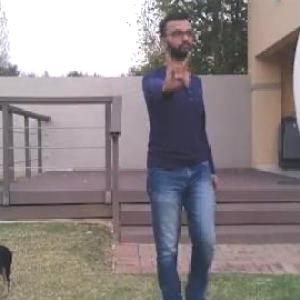takeoff-hand: (156, 43, 196, 98)
